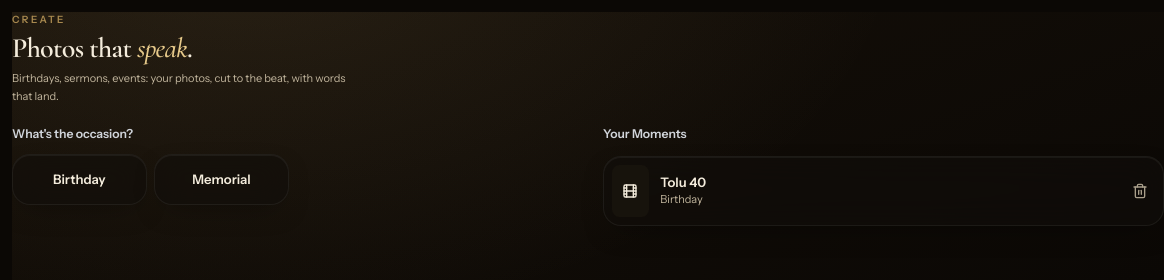
Scenario: MomentsHistory › deleting a Moment asks first, then removes it and refreshes the list
Click the button named "Delete Tolu 40" at point(1140, 191), box [1124,176,1156,206]
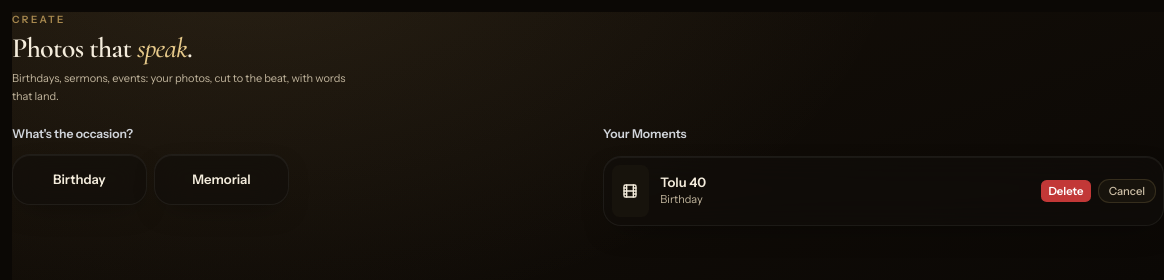
Click the button with aria-label "confirm delete tolu 40" at point(1066, 191), box [1041,180,1091,202]
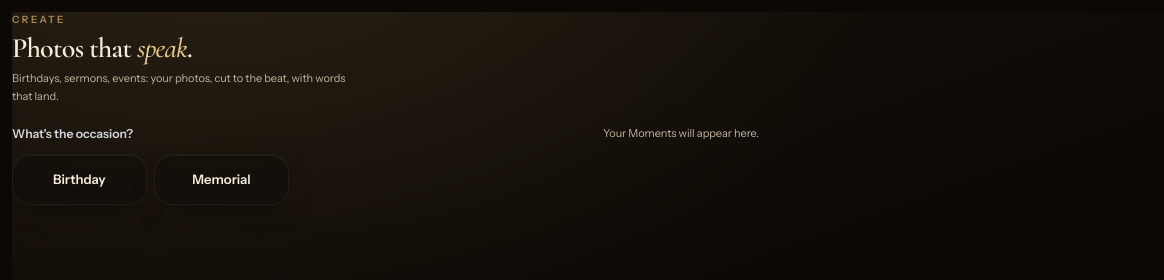
Result: the button "Tolu 40" is gone
